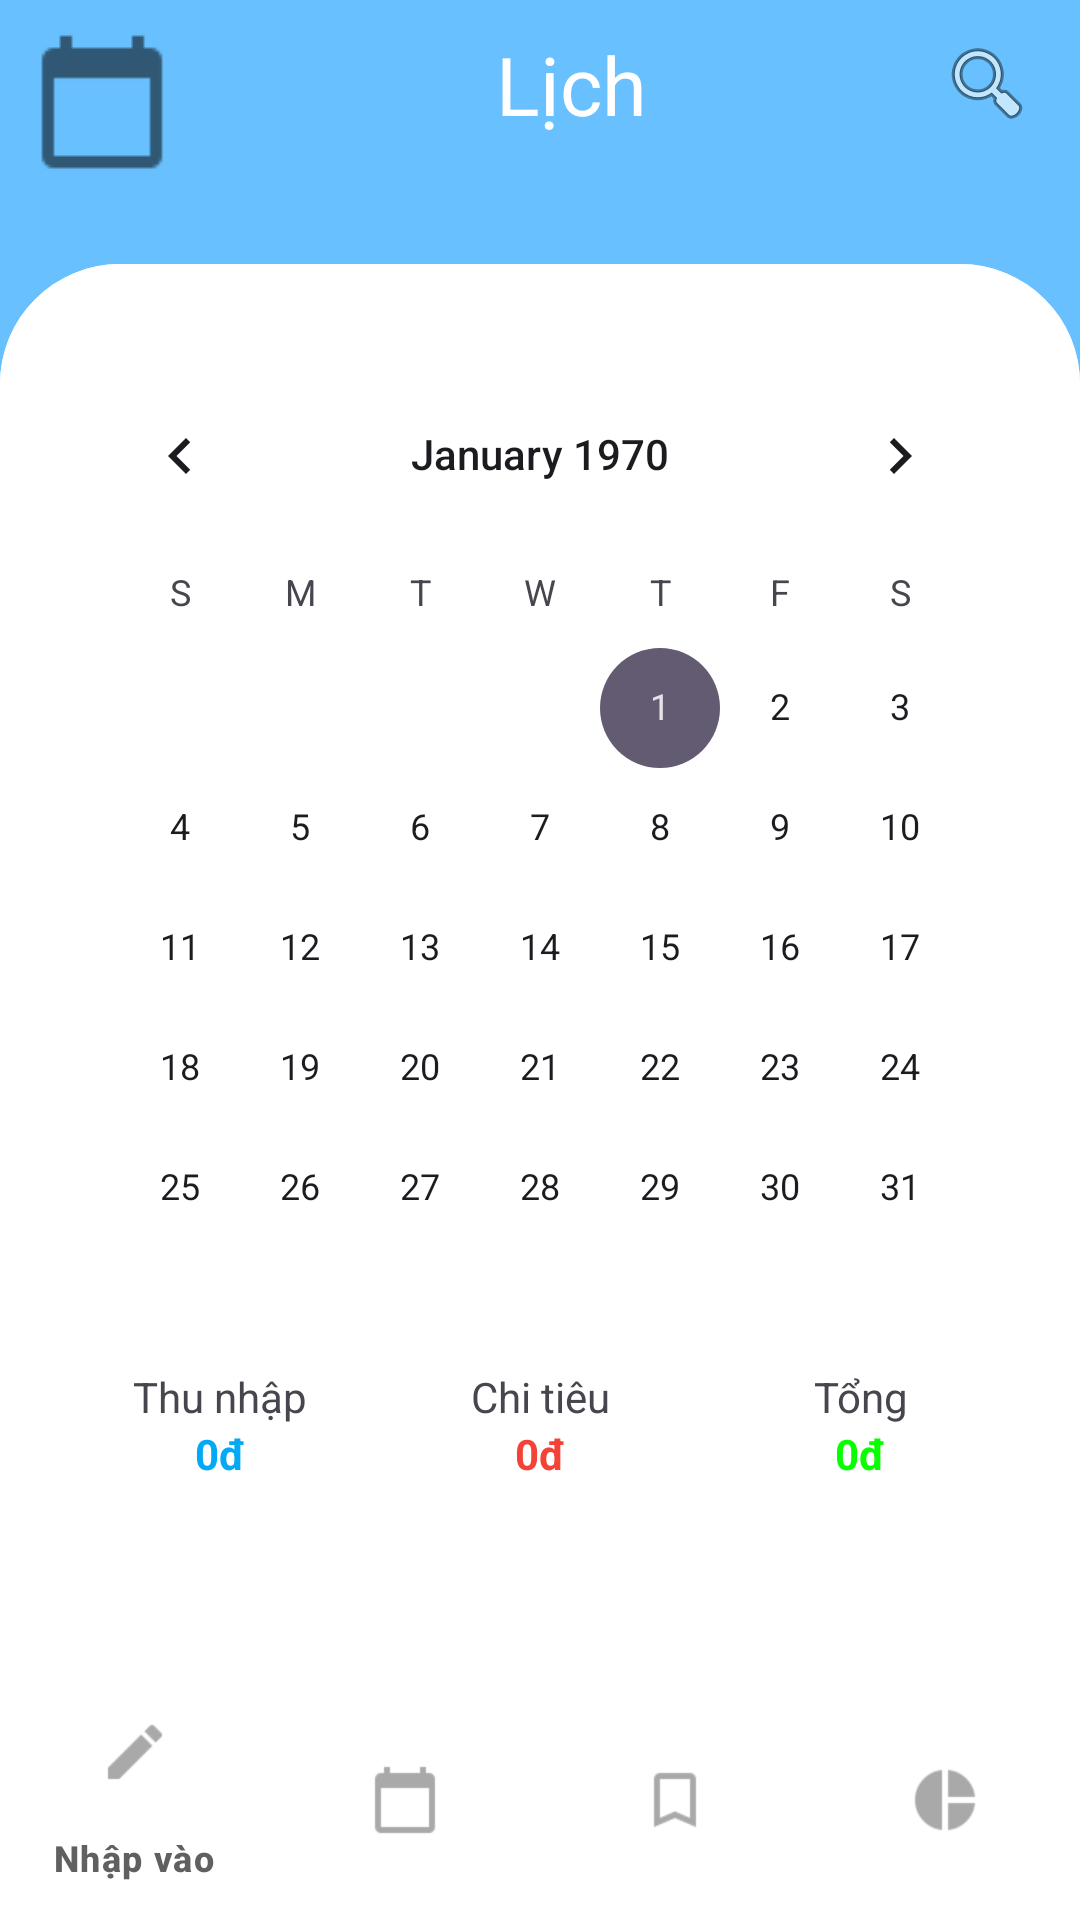

Named icons in this screenshot (1080x1920) and their centers, point (x, y):
calendar: point (102, 102)
search: point (987, 83)
